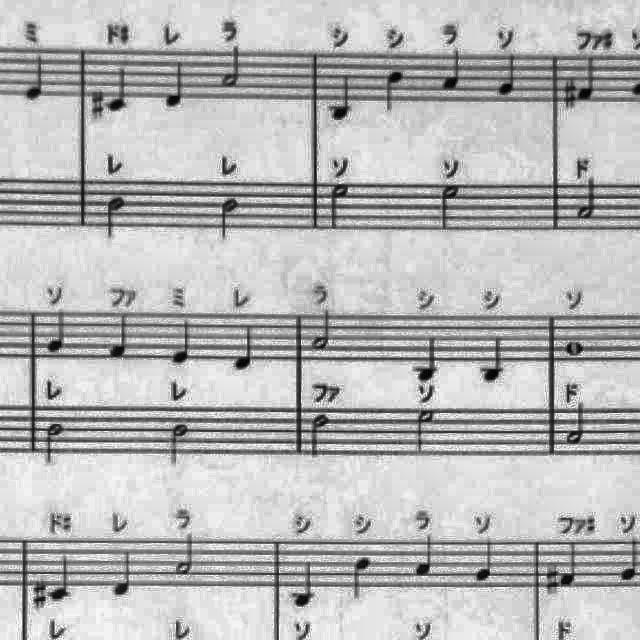Diez: (31, 576, 49, 612), (544, 560, 562, 596), (562, 76, 578, 112), (90, 86, 106, 122)
Full-note: (561, 336, 589, 359)
Half-note: (324, 178, 356, 234), (438, 180, 466, 233), (101, 191, 129, 241), (166, 420, 194, 470), (562, 400, 590, 448), (573, 174, 601, 222), (414, 407, 440, 458), (41, 419, 68, 468), (310, 305, 336, 353), (310, 411, 334, 462), (218, 43, 242, 93), (218, 194, 242, 244), (174, 532, 198, 580)
Quarter-note: (290, 557, 322, 613), (478, 332, 510, 384), (48, 552, 76, 606), (329, 71, 357, 125), (413, 332, 442, 384), (24, 50, 51, 104), (232, 322, 260, 374), (168, 316, 196, 368), (348, 552, 376, 604), (44, 306, 72, 358), (110, 544, 136, 600), (105, 311, 132, 363), (438, 45, 466, 95), (380, 67, 408, 117), (105, 64, 131, 116), (410, 532, 438, 580), (495, 50, 521, 100), (473, 535, 499, 585), (164, 59, 188, 113), (578, 52, 602, 104), (558, 540, 582, 592), (616, 533, 640, 583)
